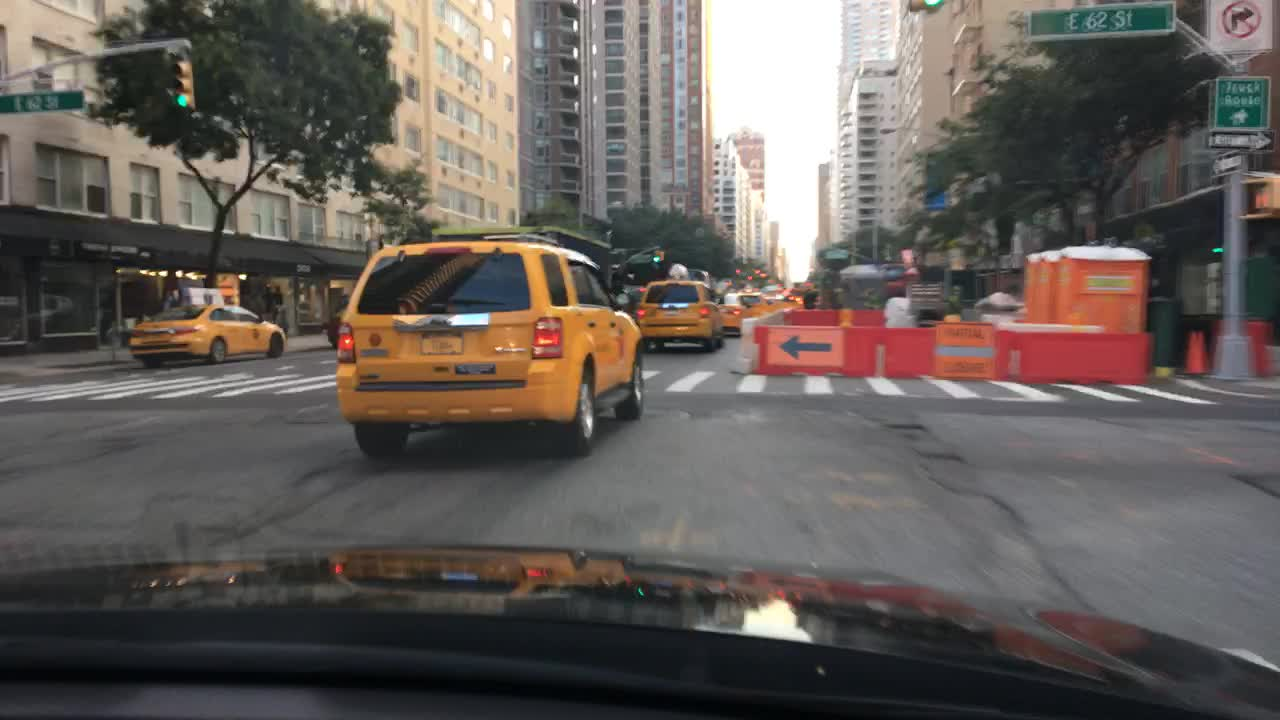car: (329, 226, 650, 462), (126, 282, 290, 368), (633, 259, 725, 356), (323, 291, 349, 350), (714, 290, 744, 340), (617, 281, 650, 325), (666, 264, 714, 291), (736, 290, 768, 317), (785, 290, 801, 303), (773, 290, 785, 303)
person: (268, 283, 285, 327), (160, 287, 180, 315)
traffic light: (168, 59, 197, 113), (1250, 176, 1279, 215), (907, 0, 925, 15), (925, 0, 945, 13), (651, 249, 665, 264)
traffic sign: (1022, 2, 1181, 37), (1199, 0, 1275, 55), (1212, 77, 1273, 129), (0, 88, 87, 113), (1205, 129, 1276, 151), (1208, 153, 1244, 180), (822, 248, 849, 261)
